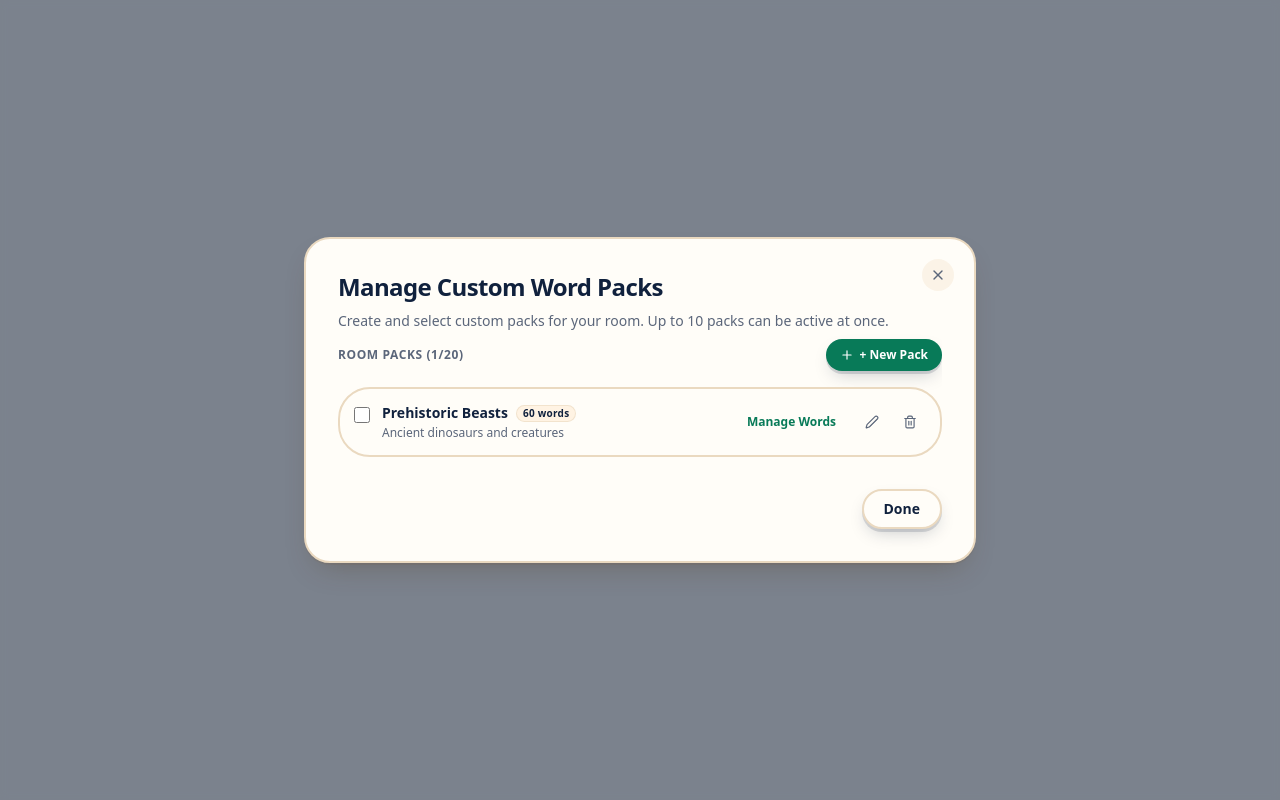
CustomPackManagerModal › paginates the word list of a large pack
This screenshot has width=1280, height=800.
Expected: the text "Prehistoric Beasts" is shown, [382,403,508,423]
Click the button "Manage Words" at (791, 422), box [733,406,850,438]
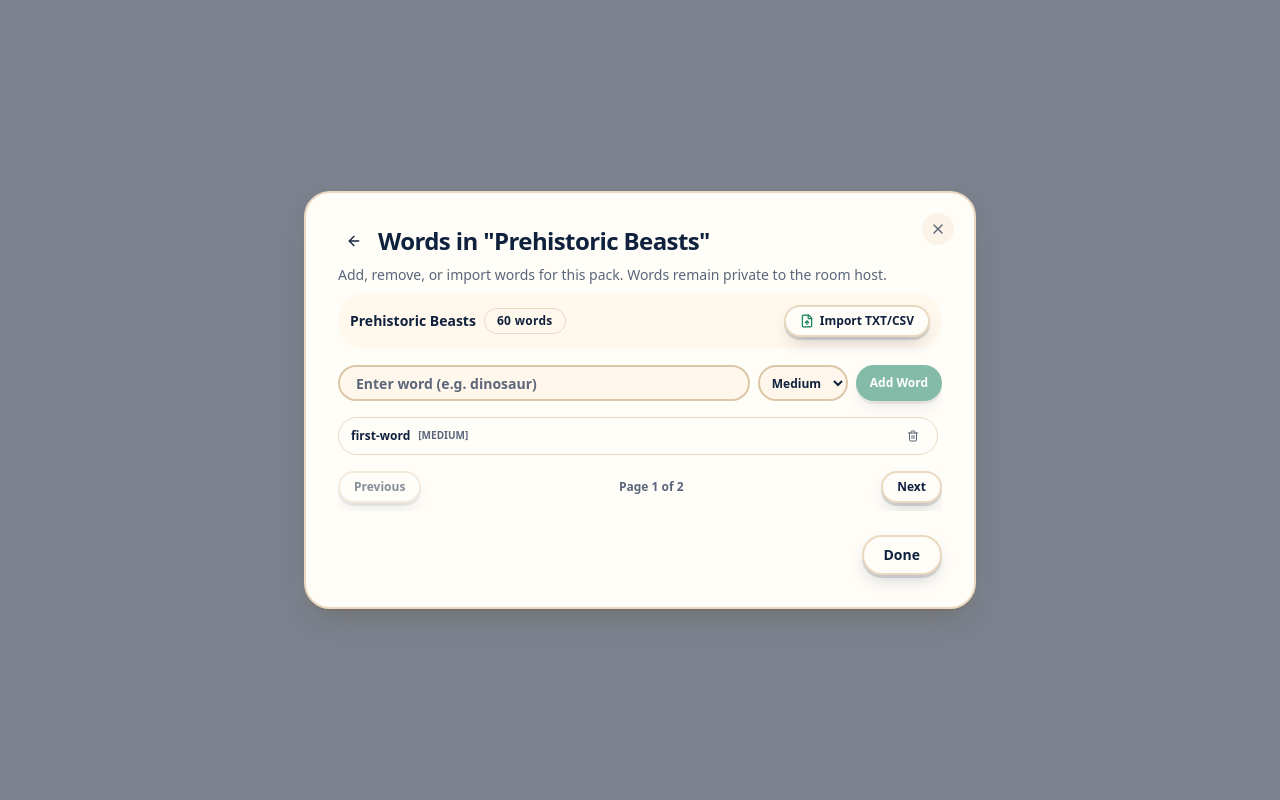
Now the text "first-word" is shown, box [351,428,410,444]
Now the text "Page 1 of 2" is shown, box [619,479,684,495]
Now the button "Previous" is disabled, box [338,471,421,503]
Click the button "Next" at (912, 487), box [881,471,942,503]
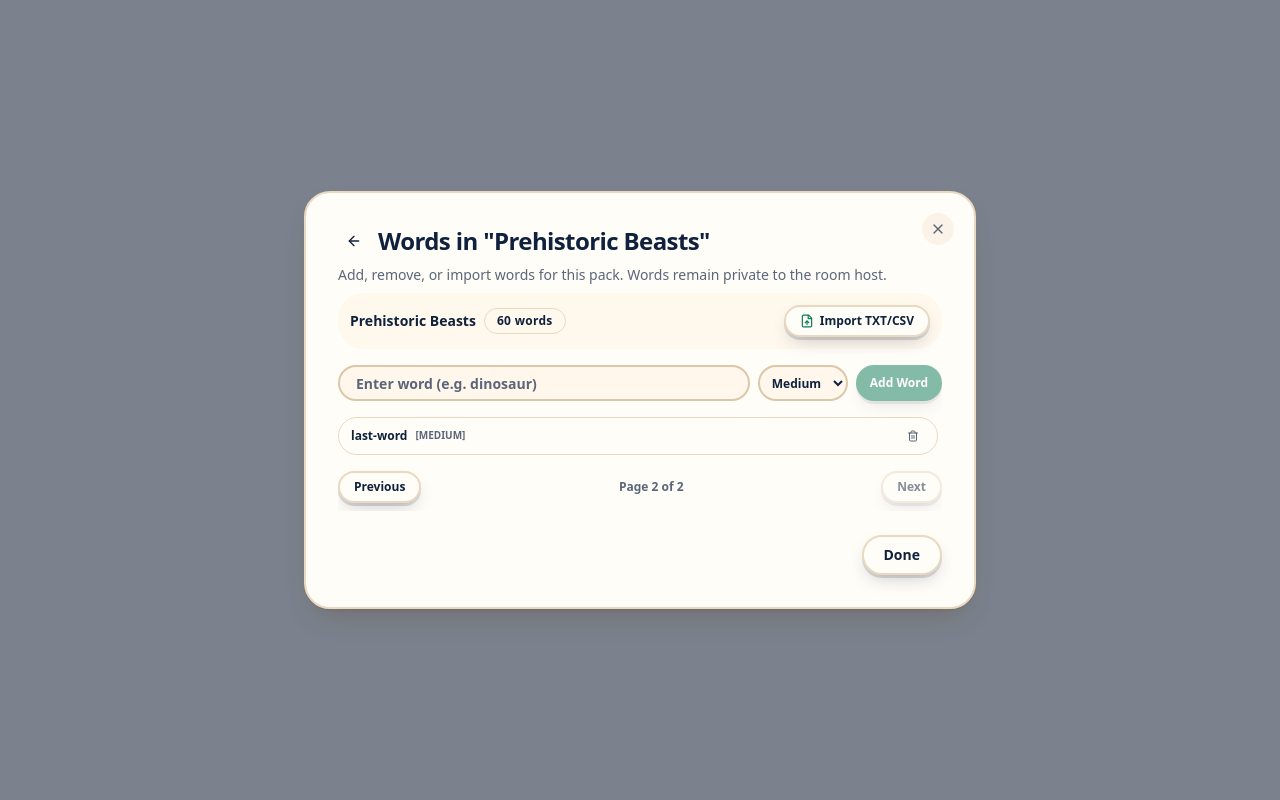
Now the text "last-word" is shown, box [351,428,408,444]
Now the button "Next" is disabled, box [881,471,942,503]
